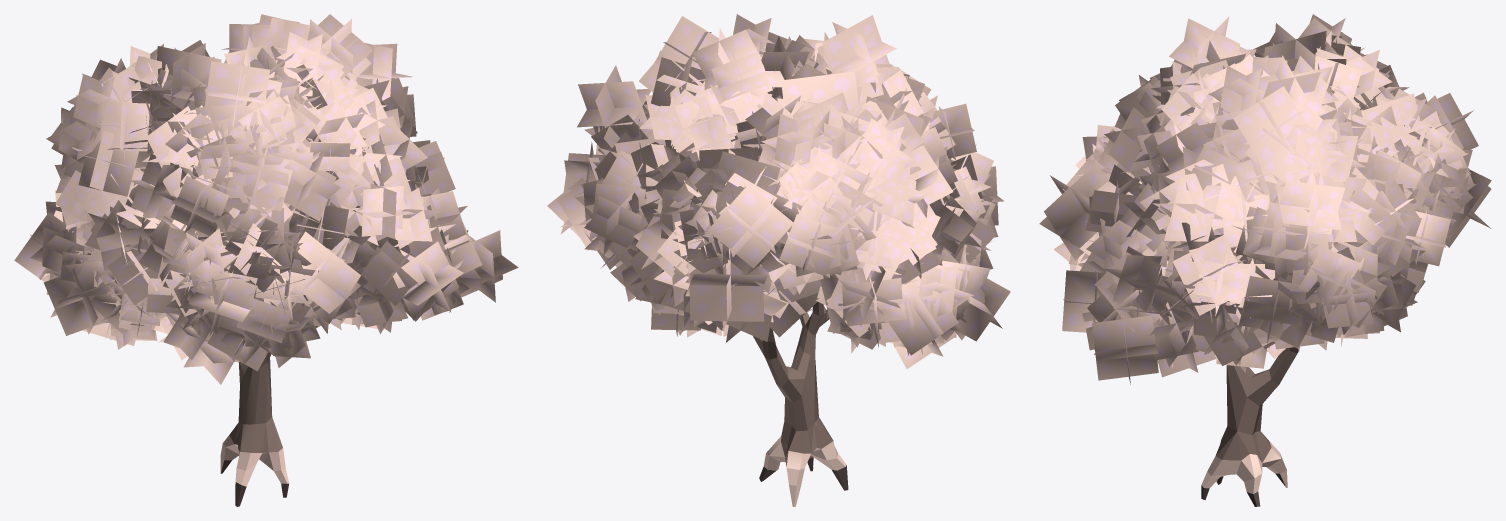
The model's file is fm_tree_blossom_spring.glb.
3 views of the same model, side by side, from view 1: azimuth 30°, elevation 25°; view 2: azimuth 150°, elevation 25°; view 3: azimuth 270°, elevation 25° (orthographic). The views are drawn at different scales.
Visible parts, largest first — view 1: SM_Env_Tree_Fruit_01_LOD1; view 2: SM_Env_Tree_Fruit_01_LOD1; view 3: SM_Env_Tree_Fruit_01_LOD1.
Boxes of the visible parts, bbox=[...] form: SM_Env_Tree_Fruit_01_LOD1: bbox=[14, 14, 518, 506]; SM_Env_Tree_Fruit_01_LOD1: bbox=[547, 14, 1010, 506]; SM_Env_Tree_Fruit_01_LOD1: bbox=[1039, 14, 1491, 506].
Bounding box in the file's own units: 5.99 × 6.6 × 5.87.
2 materials, 2 textured.
